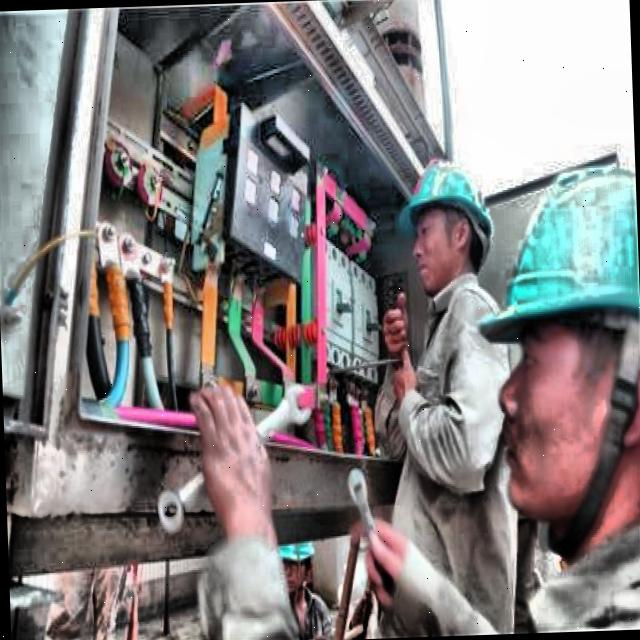helmet: (482, 150, 640, 526), (393, 144, 497, 299)
